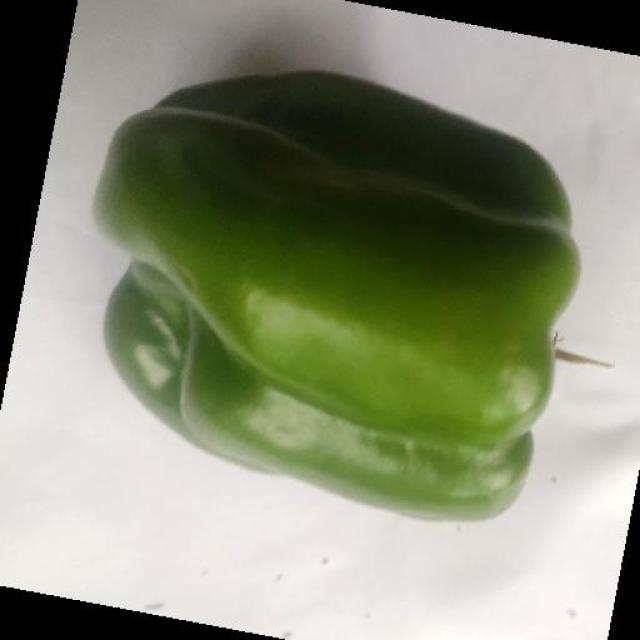Fresh_Capsicum: (65, 84, 600, 505)
